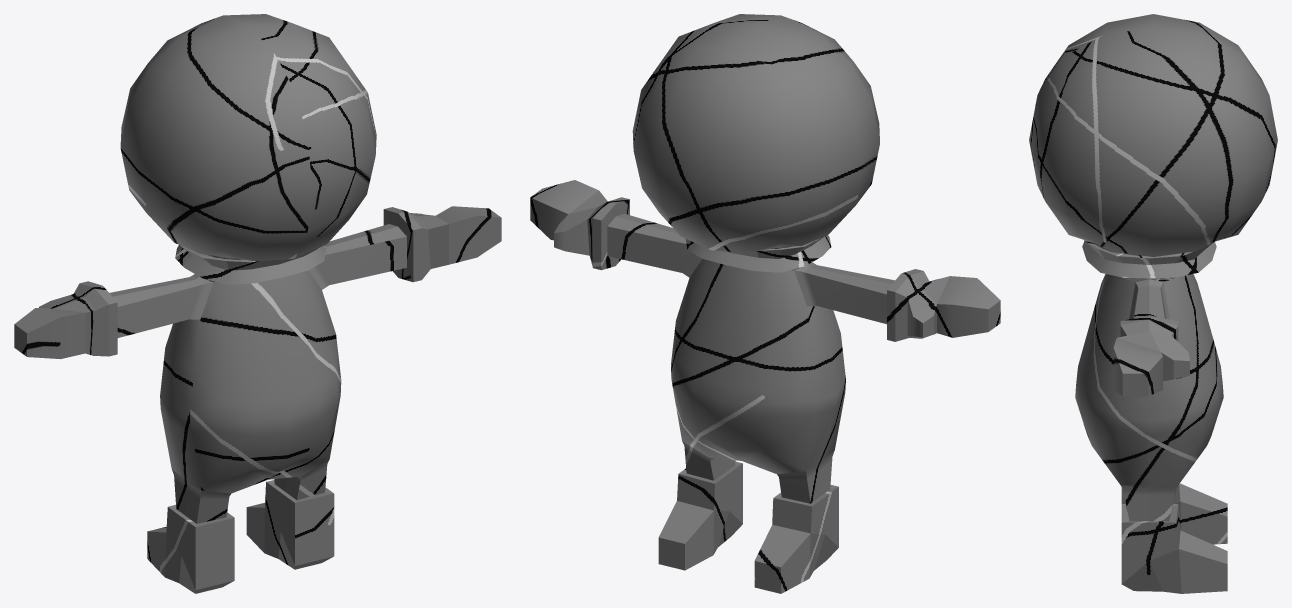
The model's file is player1.fbx.
3 views of the same model, side by side, from view 1: azimuth 30°, elevation 25°; view 2: azimuth 150°, elevation 25°; view 3: azimuth 270°, elevation 25° (orthographic). The views are drawn at different scales.
Parts seen in each view (by area): view 1: pCube8; view 2: pCube8; view 3: pCube8.
Part boxes in pixels (bbox=[...]): pCube8: bbox=[14, 14, 501, 593]; pCube8: bbox=[530, 14, 1000, 593]; pCube8: bbox=[1029, 14, 1277, 593].
Bounding box in the file's own units: 5.09 × 5.59 × 2.36.
Materials: 1 (1 with a texture image).
